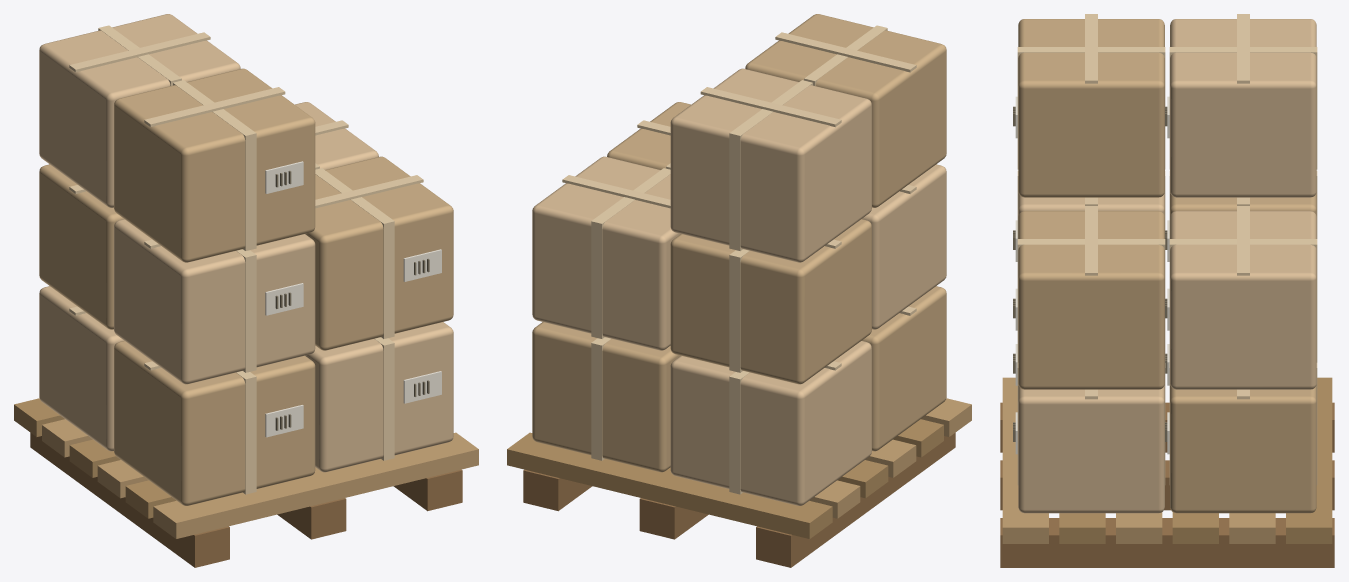
The model's file is pallet-1-blue.glb.
The picture shows the model from 3 angles, left to right: view 1: azimuth 30°, elevation 25°; view 2: azimuth 150°, elevation 25°; view 3: azimuth 270°, elevation 25°; orthographic projection.
Visible parts, largest first — view 1: static-6--11, static-6--81, static-3--5, static-6--77, static-3--9, static-6--59, static-6--68, static-3--7, static-6--50; view 2: static-6--81, static-6--11, static-3--7, static-6--77, static-3--9, static-6--68, static-3--5; view 3: static-6--81, static-6--11, static-3--9, static-3--7, static-3--5, static-6--77, static-6--68, static-6--59, static-6--50.
Boxes of the visible parts, x1=… form: static-6--11: x1=39, y1=68, x2=453, y2=505; static-6--81: x1=39, y1=14, x2=453, y2=472; static-3--5: x1=42, y1=419, x2=478, y2=538; static-6--77: x1=98, y1=25, x2=394, y2=494; static-3--9: x1=30, y1=432, x2=462, y2=567; static-6--59: x1=265, y1=161, x2=441, y2=437; static-6--68: x1=69, y1=32, x2=423, y2=370; static-3--7: x1=14, y1=398, x2=176, y2=518; static-6--50: x1=275, y1=170, x2=429, y2=430; static-6--81: x1=532, y1=68, x2=946, y2=505; static-6--11: x1=532, y1=14, x2=946, y2=472; static-3--7: x1=507, y1=419, x2=943, y2=538; static-6--77: x1=591, y1=25, x2=887, y2=494; static-3--9: x1=523, y1=432, x2=955, y2=567; static-6--68: x1=562, y1=32, x2=916, y2=370; static-3--5: x1=809, y1=398, x2=971, y2=518; static-6--81: x1=1018, y1=19, x2=1316, y2=513; static-6--11: x1=1018, y1=19, x2=1316, y2=513; static-3--9: x1=1000, y1=402, x2=1334, y2=567; static-3--7: x1=1059, y1=377, x2=1332, y2=543; static-3--5: x1=1002, y1=377, x2=1275, y2=543; static-6--77: x1=1017, y1=47, x2=1317, y2=484; static-6--68: x1=1085, y1=14, x2=1249, y2=399; static-6--59: x1=1015, y1=96, x2=1169, y2=454; static-6--50: x1=1013, y1=106, x2=1167, y2=441.
Bounding box in the file's own units: 1.38 × 1.8 × 1.3.
